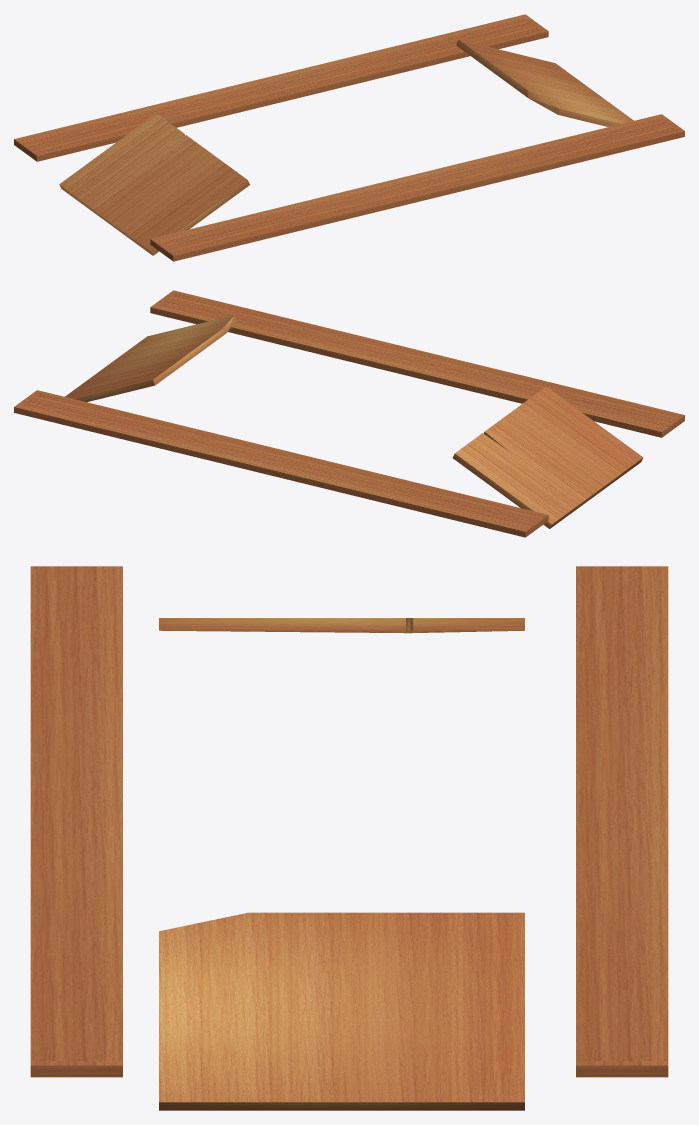
Rendered from prop_Wooden_Ramp.FBX.
The picture shows the model from 3 angles, top to bottom: view 1: azimuth 30°, elevation 25°; view 2: azimuth 150°, elevation 25°; view 3: azimuth 270°, elevation 25°; orthographic projection. The views are drawn at different scales.
Visible parts, largest first — view 1: Ramp; view 2: Ramp; view 3: Ramp.
Part boxes in pixels (x1,y1,x2,y2): Ramp: (14,14,684,261); Ramp: (14,290,684,537); Ramp: (30,566,668,1110).
Size of the model in its own units: 151 by 14.85 by 81.41.
